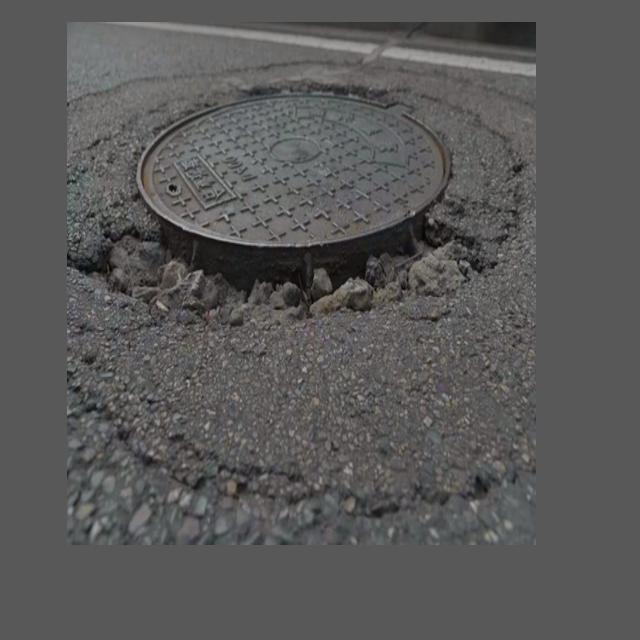circle: (74, 61, 523, 379)
